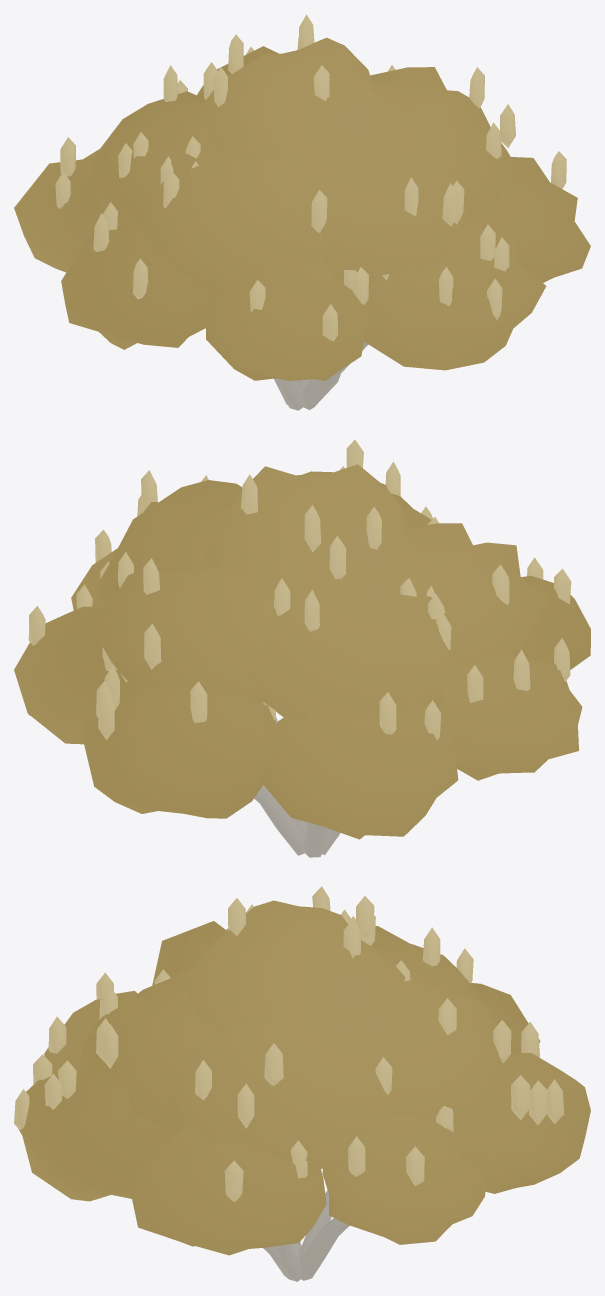
The model's file is Blender_Buckeye_1.glb.
The picture shows the model from 3 angles, top to bottom: view 1: azimuth 30°, elevation 25°; view 2: azimuth 150°, elevation 25°; view 3: azimuth 270°, elevation 25°; orthographic projection. The views are drawn at different scales.
Visible parts, largest first — view 1: Blender_Buckeye_1; view 2: Blender_Buckeye_1; view 3: Blender_Buckeye_1.
Boxes of the visible parts, x1=… form: Blender_Buckeye_1: x1=14, y1=14, x2=590, y2=410; Blender_Buckeye_1: x1=14, y1=439, x2=590, y2=857; Blender_Buckeye_1: x1=14, y1=886, x2=590, y2=1281.
Size of the model in its own units: 9.52 by 6.88 by 9.65.
